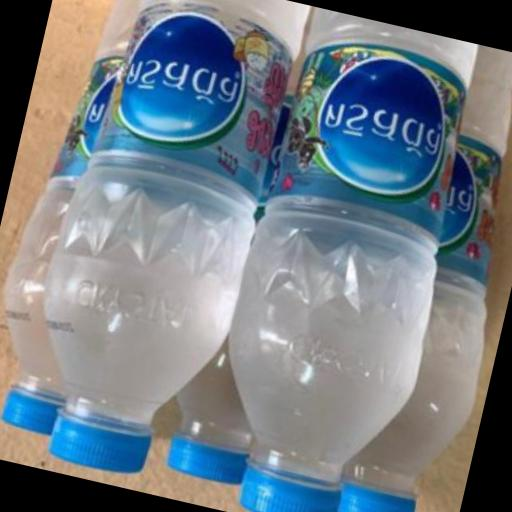Coca: (191, 5, 492, 512), (10, 0, 305, 493), (335, 38, 512, 512), (0, 0, 165, 438)
